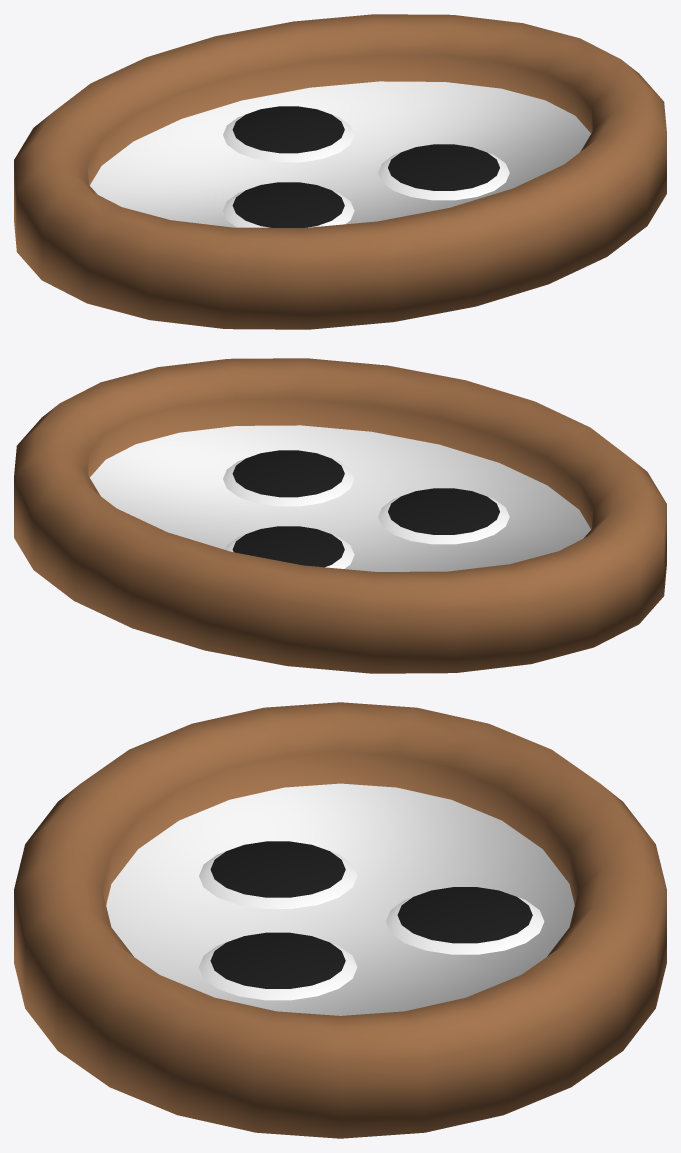
File: Tri-Insectoid.fbx
3 renders of one model, top to bottom at view 1: azimuth 30°, elevation 25°; view 2: azimuth 150°, elevation 25°; view 3: azimuth 270°, elevation 25°, orthographic. The views are drawn at different scales.
Parts seen in each view (by area): view 1: Tri-Insectoid - gigas18 (MAVG); view 2: Tri-Insectoid - gigas18 (MAVG); view 3: Tri-Insectoid - gigas18 (MAVG).
Boxes of the visible parts, <box> form: Tri-Insectoid - gigas18 (MAVG): <box>14,14,666,329</box>; Tri-Insectoid - gigas18 (MAVG): <box>14,358,666,673</box>; Tri-Insectoid - gigas18 (MAVG): <box>14,702,666,1138</box>.
Size of the model in its own units: 20.28 by 2.58 by 15.93.
